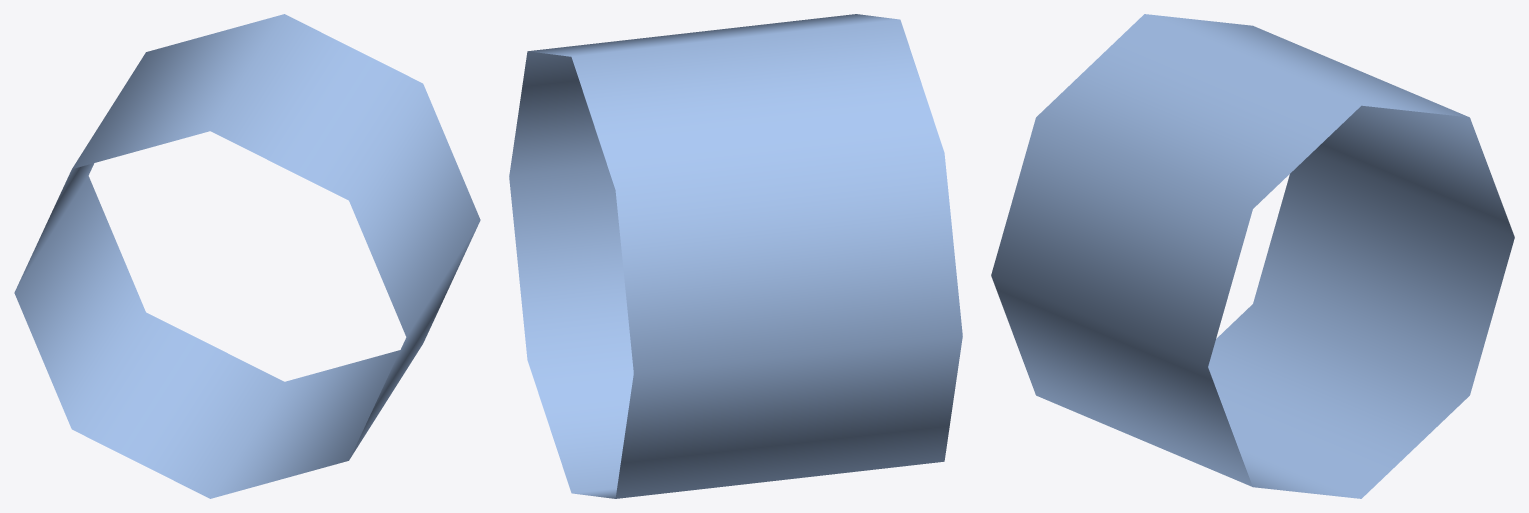
Rendered from PipeSmall_StraightDiagonal_01.fbx.
3 views of the same model, side by side, from view 1: azimuth 30°, elevation 25°; view 2: azimuth 150°, elevation 25°; view 3: azimuth 270°, elevation 25° (orthographic). The views are drawn at different scales.
Parts seen in each view (by area): view 1: PipeSmall_StraightDiagonal_01.001; view 2: PipeSmall_StraightDiagonal_01.001; view 3: PipeSmall_StraightDiagonal_01.001.
Boxes of the visible parts, <box> form: PipeSmall_StraightDiagonal_01.001: <box>14,14,480,498</box>; PipeSmall_StraightDiagonal_01.001: <box>509,14,962,498</box>; PipeSmall_StraightDiagonal_01.001: <box>991,14,1514,498</box>.
Size of the model in its own units: 0.1207 by 0.1 by 0.1207.
